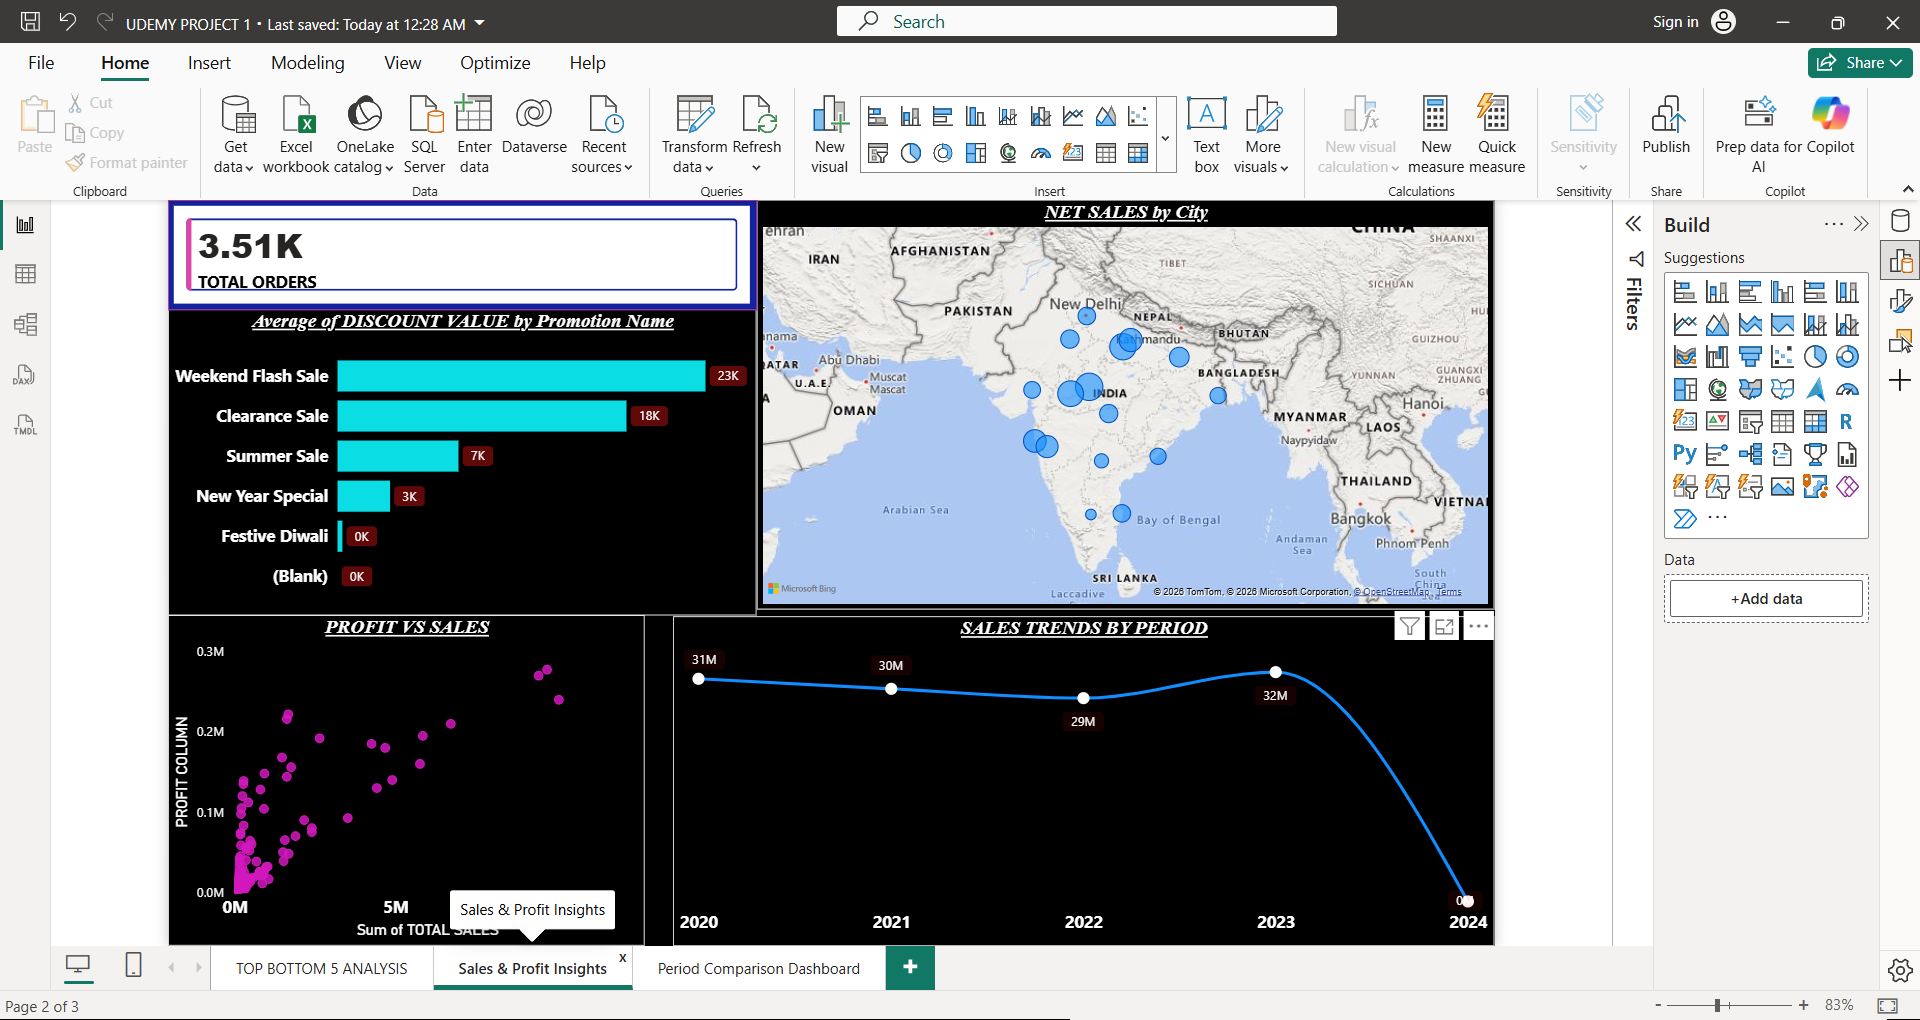

The dashboard page shown, as its layout file describes it:
{"tool":"powerbi","page":{"name":"Sales & Profit Insights","canvas":[1280,720],"ordinal":1},"visuals":[{"type":"scatterChart","title":"PROFIT VS SALES","fields":{"X":["facct table.TOTAL SALES "],"Y":["facct table.PROFIT COLUMN"]},"box":[0,401.1,460.2,318.9],"z":0},{"type":"barChart","fields":{"Category":["Dim Promotion.Promotion Name"],"Y":["Avg(FACT TABLE.DISCOUNT  VALUE)"]},"box":[0,105.5,568.1,296],"z":1000},{"type":"map","fields":{"Category":["Dim Customers.City"],"Size":["Sum(FACT TABLE.NET SALES)"]},"box":[568.1,0,711.9,395.5],"z":2000},{"type":"lineChart","title":"SALES TRENDS BY PERIOD","fields":{"Category":["Sheet3.Date (dd/mm/yyyy).Variation.Date Hierarchy.Year","Sheet3.Date (dd/mm/yyyy).Variation.Date Hierarchy.Quarter","Sheet3.Date (dd/mm/yyyy).Variation.Date Hierarchy.Month","Sheet3.Date (dd/mm/yyyy).Variation.Date Hierarchy.Day"],"Y":["Sum(facct table.net sales )"]},"box":[487.4,401.7,792.6,318.5],"z":3000},{"type":"cardVisual","fields":{"Data":["Count(FACT TABLE.ORDER ID)"]},"box":[0,0,568.4,106.8],"z":4000}]}

Visuals, with their boxes on the page's 1280x720 design canvas (x1, y1, x2, y2). These are canvas units, not pixel positions in the 1920x1020 screenshot, which may show the page scaled, cropped or inside an application window:
"PROFIT VS SALES" scatterChart: [0, 401, 460, 720]
barChart - Dim Promotion.Promotion Name x Avg(FACT TABLE.DISCOUNT  VALUE): [0, 106, 568, 402]
map - Dim Customers.City x Sum(FACT TABLE.NET SALES): [568, 0, 1280, 396]
"SALES TRENDS BY PERIOD" lineChart: [487, 402, 1280, 720]
cardVisual - Count(FACT TABLE.ORDER ID): [0, 0, 568, 107]
